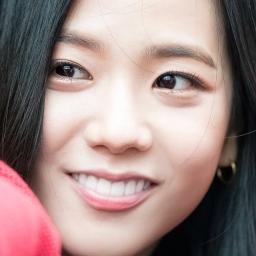face: (46, 0, 224, 254)
